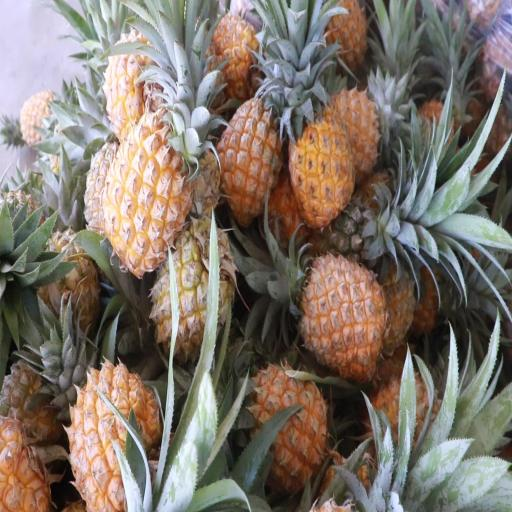------------------------------: (156, 225, 234, 354)
Pineapple - v8 v1: (76, 357, 161, 512), (105, 124, 189, 268), (300, 261, 385, 375), (247, 370, 330, 484), (217, 96, 287, 219), (292, 114, 358, 224), (103, 37, 166, 132), (206, 15, 260, 81)
